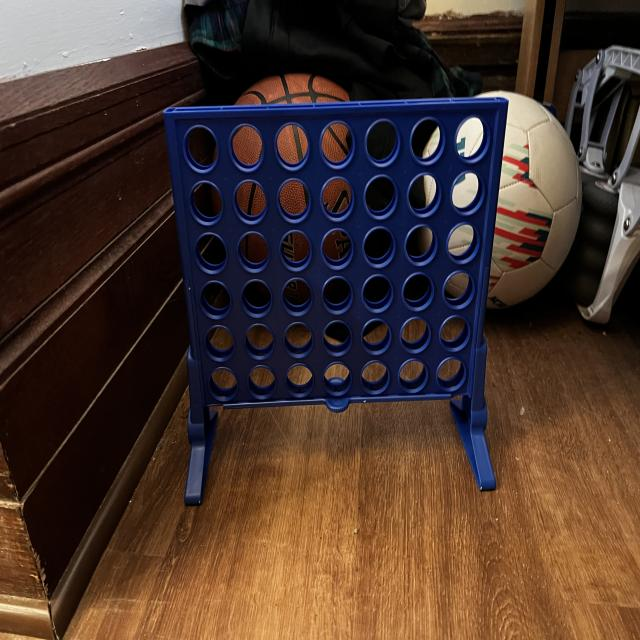Board: (166, 104, 507, 413)
No Piece: (180, 119, 222, 177), (315, 172, 359, 226), (410, 108, 446, 169), (317, 114, 356, 170), (362, 117, 404, 168), (227, 120, 268, 172), (186, 177, 226, 229), (230, 177, 270, 227), (276, 174, 315, 224), (454, 106, 487, 165), (275, 228, 316, 274), (233, 227, 272, 275), (274, 118, 310, 170), (279, 272, 316, 322), (191, 230, 230, 277), (318, 226, 356, 271), (363, 172, 399, 219), (447, 170, 485, 214), (195, 279, 233, 322), (356, 315, 397, 354), (238, 278, 274, 321), (282, 317, 316, 362), (443, 221, 476, 267), (436, 311, 470, 354), (433, 349, 467, 392), (206, 364, 242, 404), (444, 265, 477, 307), (243, 320, 275, 363), (359, 273, 394, 312), (320, 316, 354, 356), (362, 224, 395, 265), (320, 275, 354, 314), (202, 322, 235, 362), (404, 222, 436, 262), (396, 354, 429, 392), (247, 362, 277, 403), (285, 360, 316, 399), (402, 270, 431, 310), (408, 170, 438, 208), (323, 358, 351, 396), (400, 310, 427, 347), (361, 359, 391, 388)
